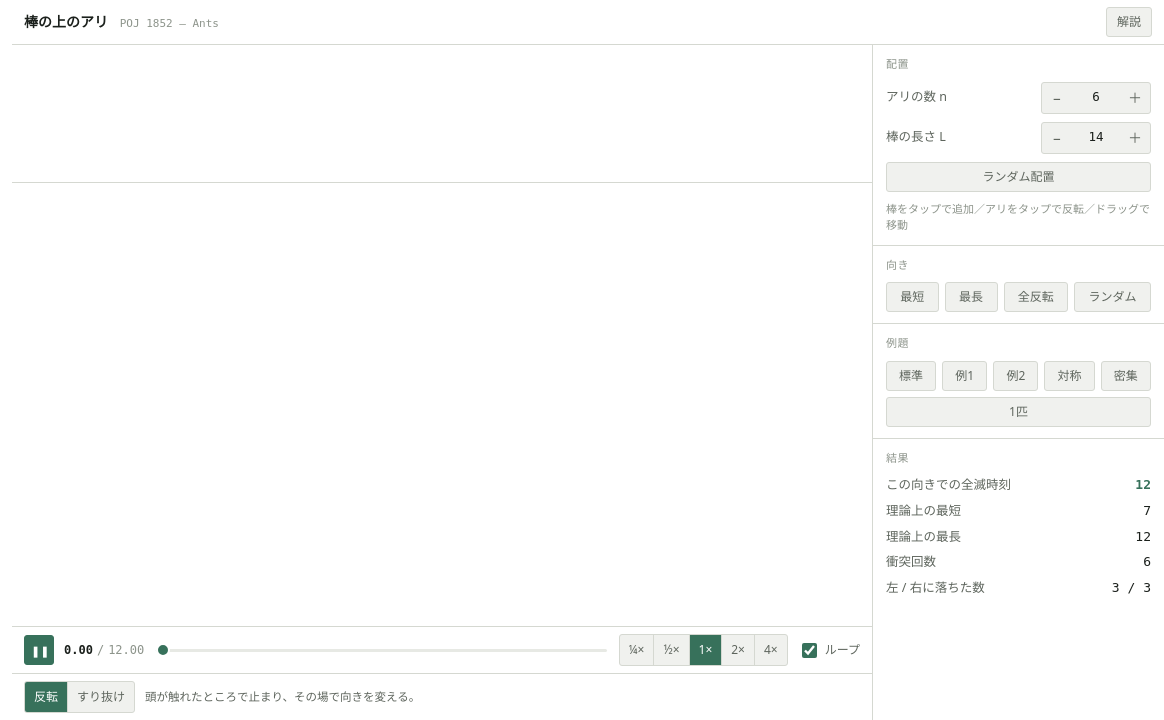
Scenario: App › 見せ方を切り替えられる
Step 1. Click the button "すり抜け" → (100, 697), box top-left (67, 682), bottom-right (134, 712)
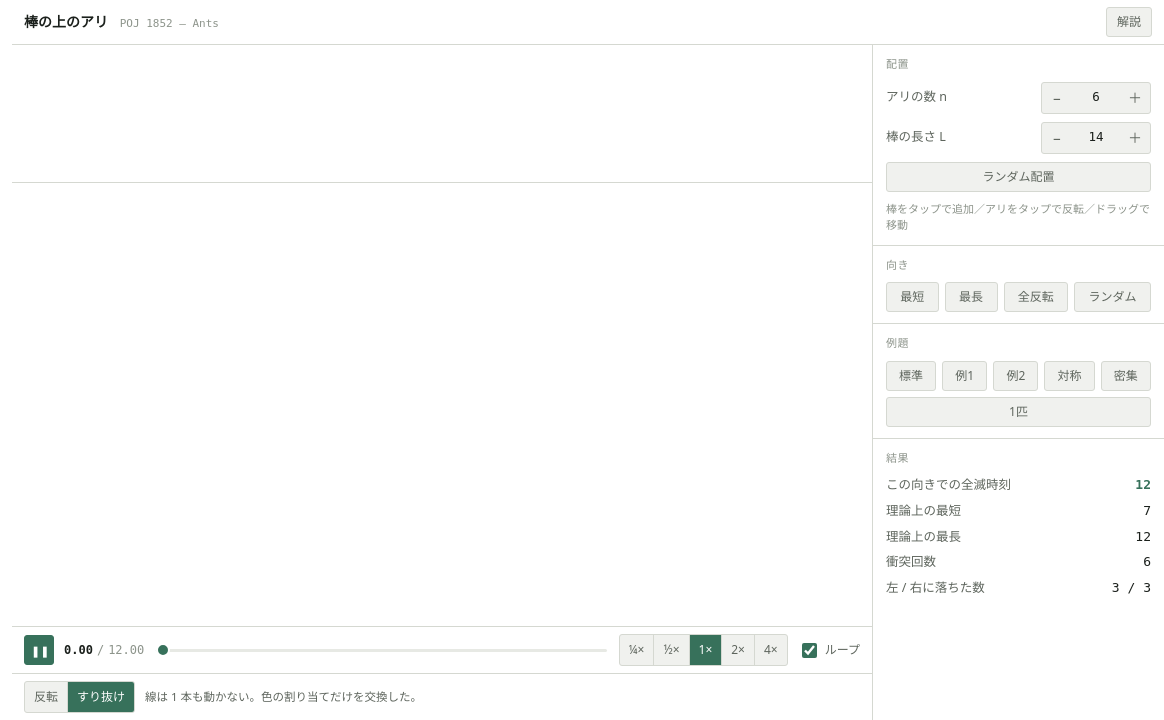
Expected: the text "線は 1 本も動かない。色の割り当てだけを交換した。" is shown, top-left (145, 688), bottom-right (422, 706)
